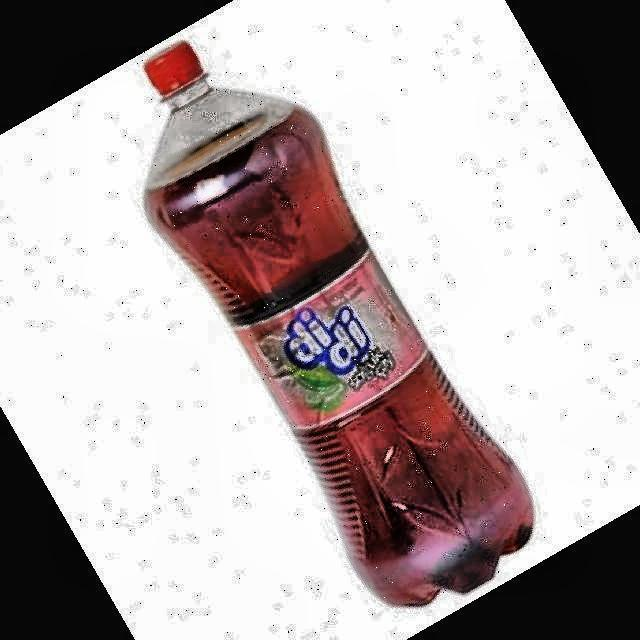plastic: (145, 42, 532, 604)
